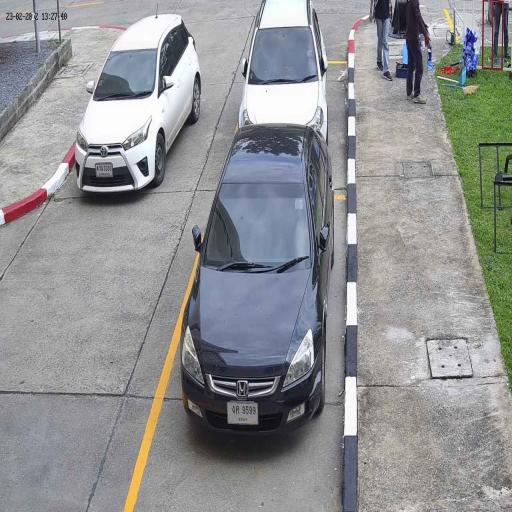car: (179, 123, 335, 439), (75, 14, 201, 194), (238, 0, 328, 148)
